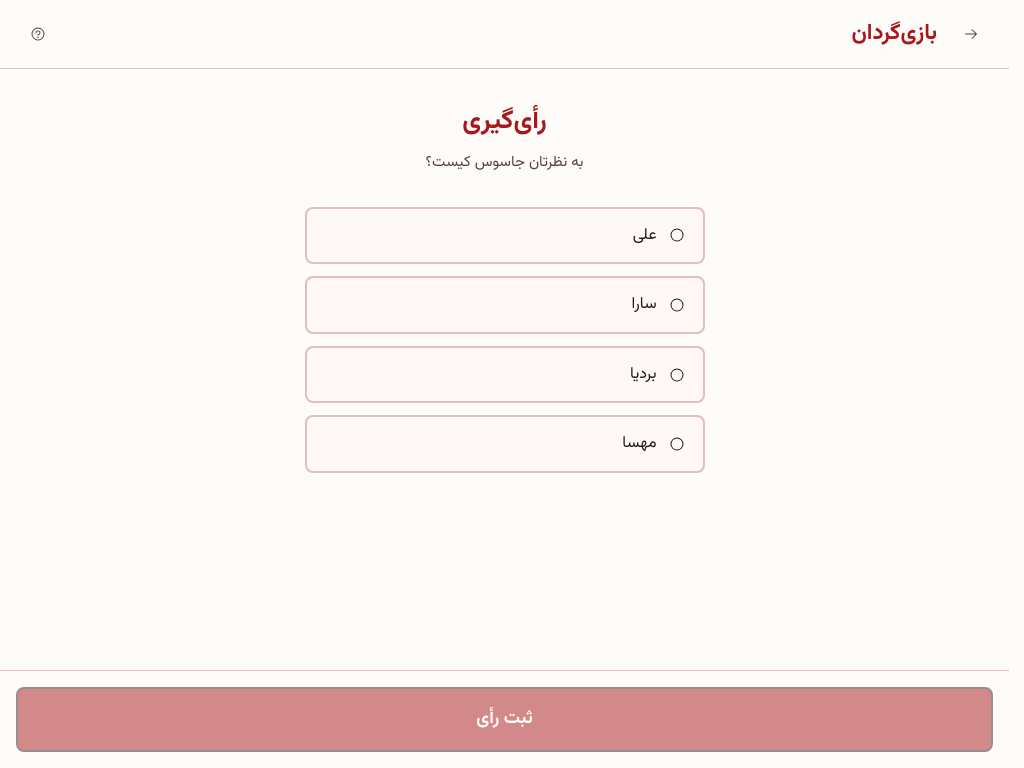
Test case: VotingPage › submits vote and moves to spy_guess phase when spy is caught
This screenshot has width=1024, height=768.
Expected: the text "بردیا" is shown, [630,362,656,387]
Click the button "بردیا".
click(676, 375)  # box [304,346,704,403]
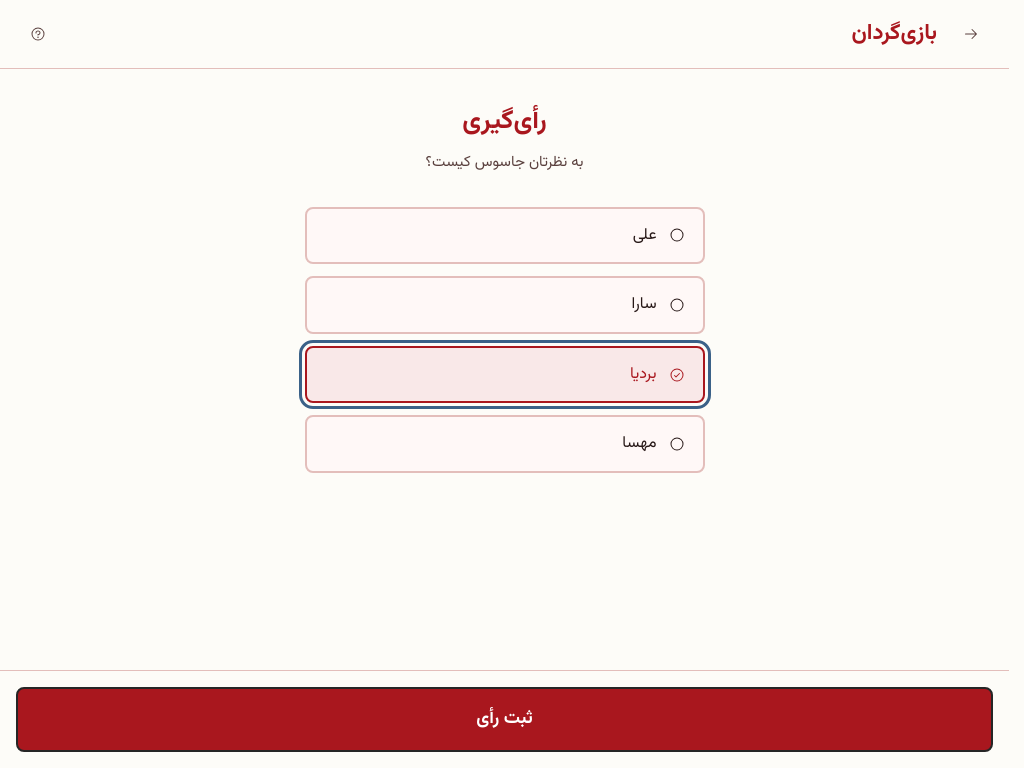
Click the button "ثبت رأی".
click(504, 720)  # box [16,687,993,752]
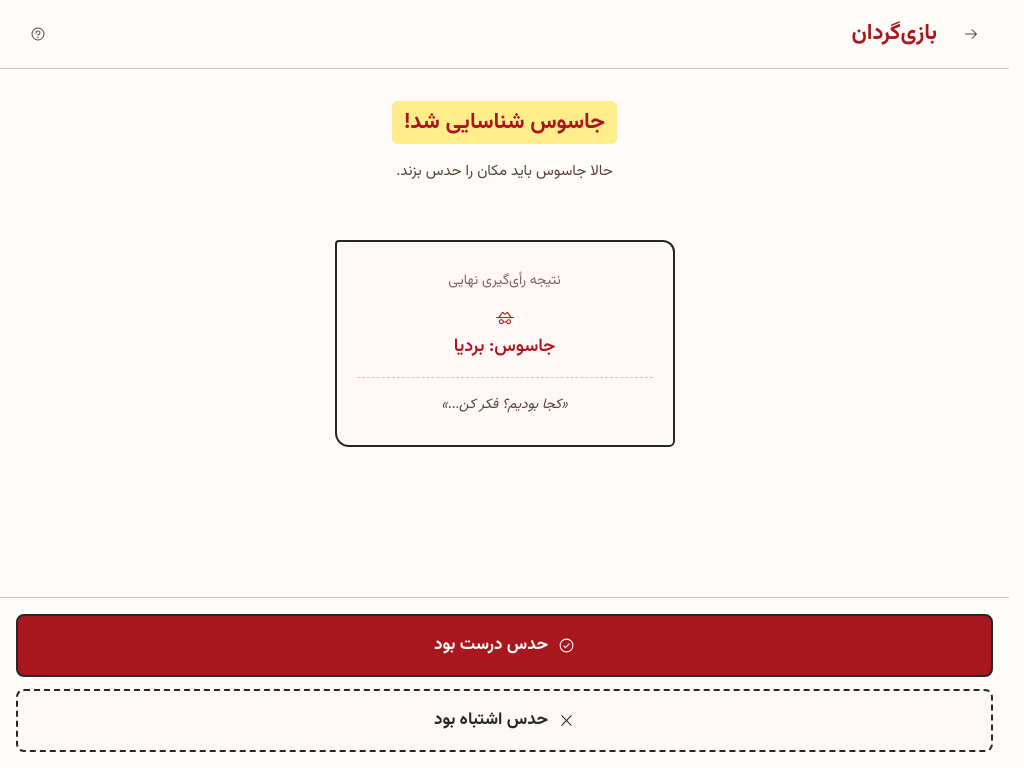
Now the heading "جاسوس شناسایی شد!" is shown, box [392,101,617,144]
Now the text "جاسوس: بردیا" is shown, box [454,333,555,361]
